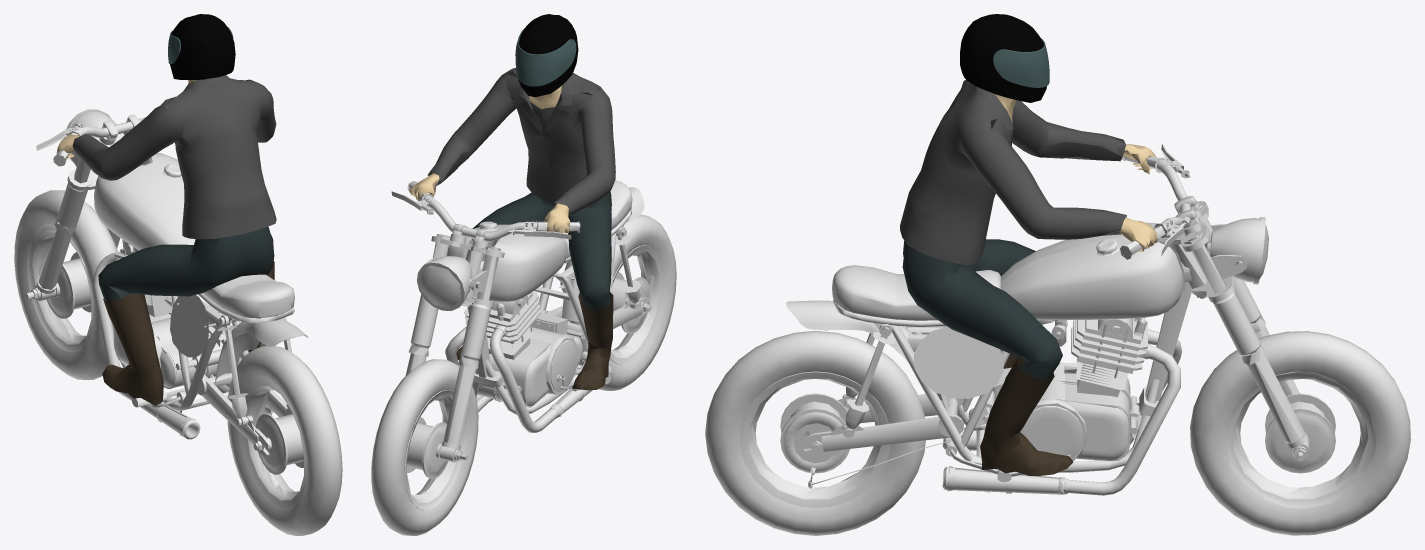
File: Bike.glb
The picture shows the model from 3 angles, left to right: view 1: azimuth 30°, elevation 25°; view 2: azimuth 150°, elevation 25°; view 3: azimuth 270°, elevation 25°; orthographic projection. The views are drawn at different scales.
Visible parts, largest first — view 1: benzobak_2LP; view 2: benzobak_2LP; view 3: benzobak_2LP.
Boxes of the visible parts, x1=… form: benzobak_2LP: x1=14, y1=14, x2=342, y2=535; benzobak_2LP: x1=371, y1=14, x2=676, y2=535; benzobak_2LP: x1=705, y1=14, x2=1410, y2=535.
Size of the model in its own units: 0.933 by 2.09 by 2.59.
